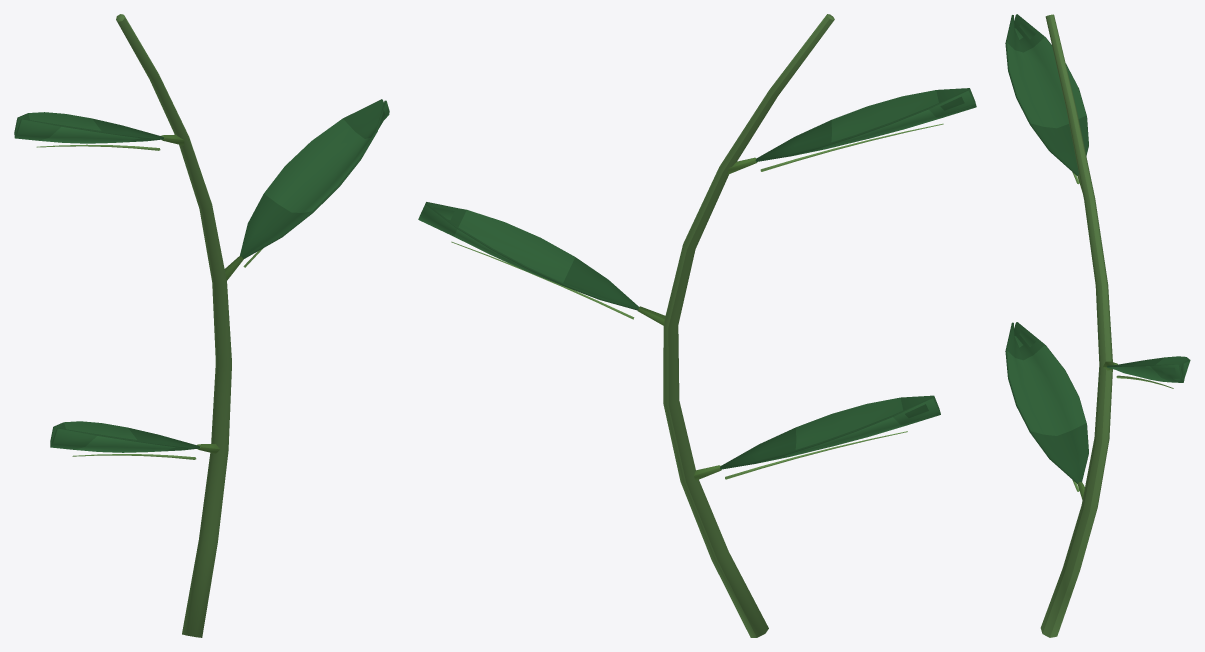
Rendered from garden-rose-bud-stem-3.glb.
3 renders of one model, left to right at view 1: azimuth 30°, elevation 25°; view 2: azimuth 150°, elevation 25°; view 3: azimuth 270°, elevation 25°, orthographic. The views are drawn at different scales.
Visible parts, largest first — view 1: rose-bud-stem-3; view 2: rose-bud-stem-3; view 3: rose-bud-stem-3.
Boxes of the visible parts, x1,y1,x2,y2 form: rose-bud-stem-3: (14, 14, 389, 637); rose-bud-stem-3: (418, 14, 976, 637); rose-bud-stem-3: (1005, 14, 1190, 637).
Bounding box in the file's own units: 0.356 × 0.4664 × 0.1329.
